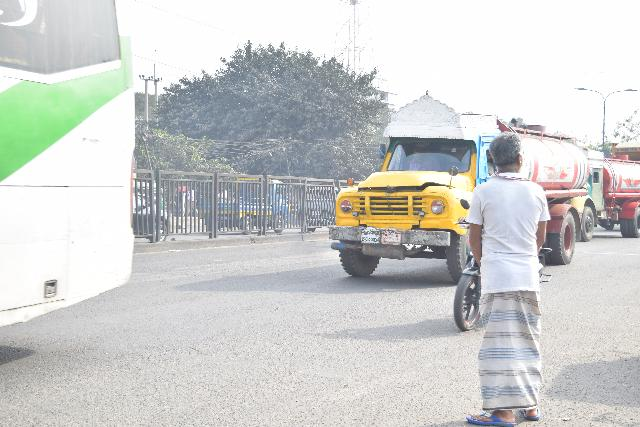bus: (0, 0, 139, 344)
truck: (329, 80, 585, 280), (585, 139, 640, 248)
